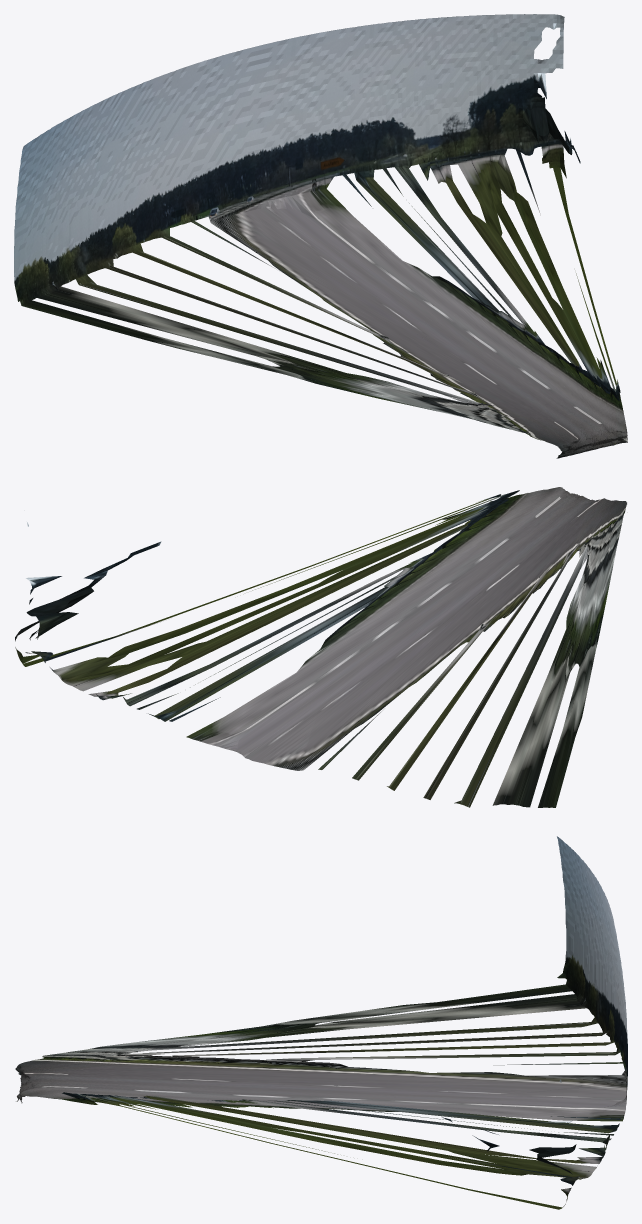
3 renders of one model, top to bottom at view 1: azimuth 30°, elevation 25°; view 2: azimuth 150°, elevation 25°; view 3: azimuth 270°, elevation 25°, orthographic. The views are drawn at different scales.
Visible parts, largest first — view 1: defaultobject; view 2: defaultobject; view 3: defaultobject.
Boxes of the visible parts, left/top/right/bottom form: defaultobject: left=14, top=14, right=627, bottom=458; defaultobject: left=15, top=487, right=626, bottom=807; defaultobject: left=15, top=836, right=627, bottom=1209.
Size of the model in its own units: 41.09 by 13.03 by 44.43.
Materials: 1 (1 with a texture image).
